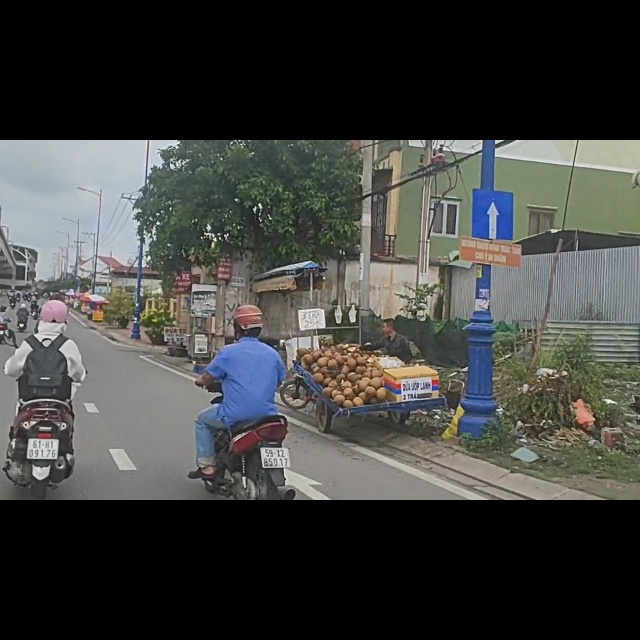bien_chi_dan: (473, 87, 515, 178)
